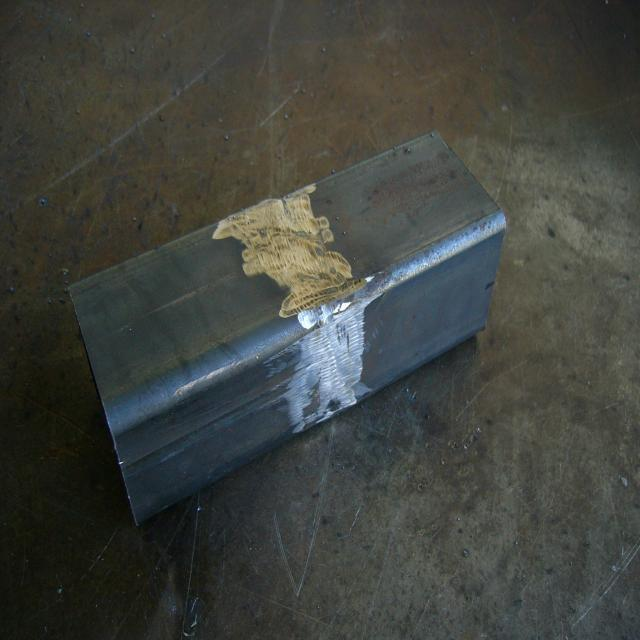Good Weld: (240, 210, 369, 419)
